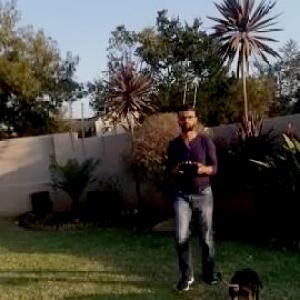follow: (164, 99, 223, 294)
null: (217, 268, 270, 299)
